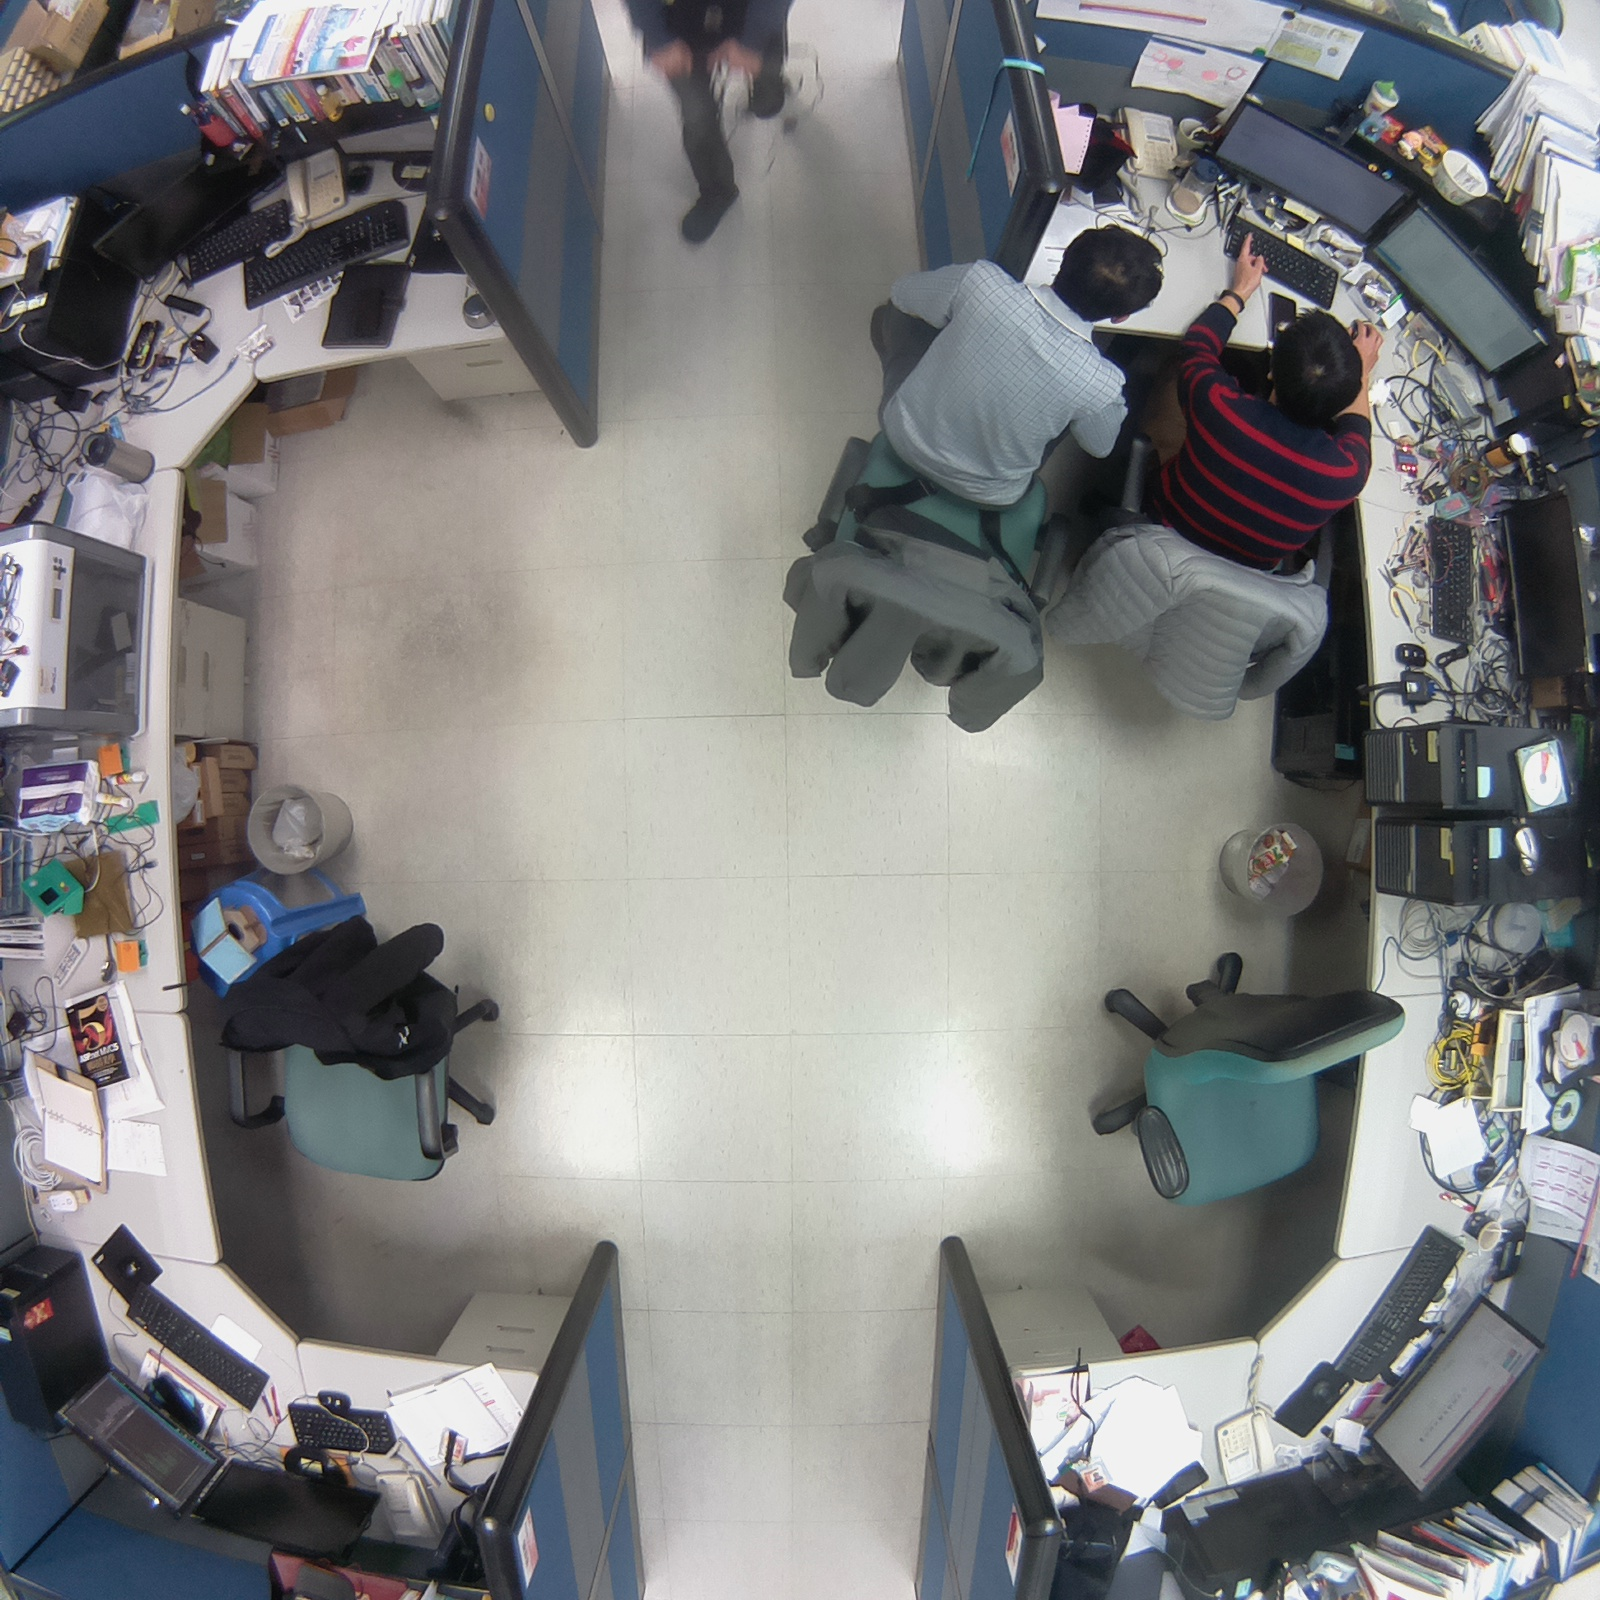chair: (1060, 932, 1414, 1222), (199, 906, 527, 1199)
head: (1046, 219, 1170, 334), (1259, 300, 1370, 423)
sitting: (755, 215, 1162, 752), (1029, 234, 1387, 732)
